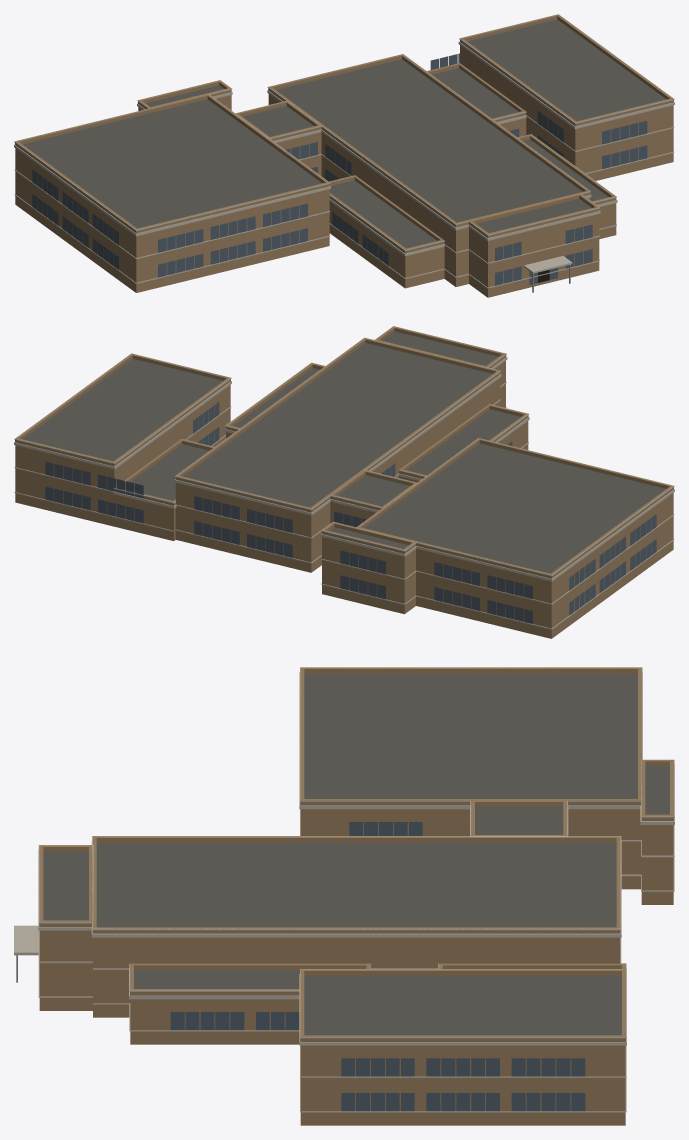
File: second-baptist-christian-academy.glb
3 views of the same model, one above another, from view 1: azimuth 30°, elevation 25°; view 2: azimuth 150°, elevation 25°; view 3: azimuth 270°, elevation 25° (orthographic). The views are drawn at different scales.
Parts seen in each view (by area): view 1: second_baptist_christian_academy; view 2: second_baptist_christian_academy; view 3: second_baptist_christian_academy.
Part boxes in pixels (left/top/right/bottom): second_baptist_christian_academy: left=14, top=14, right=674, bottom=297; second_baptist_christian_academy: left=14, top=326, right=674, bottom=638; second_baptist_christian_academy: left=14, top=667, right=674, bottom=1125.
Bounding box in the file's own units: 82.24 × 9.2 × 62.02.
